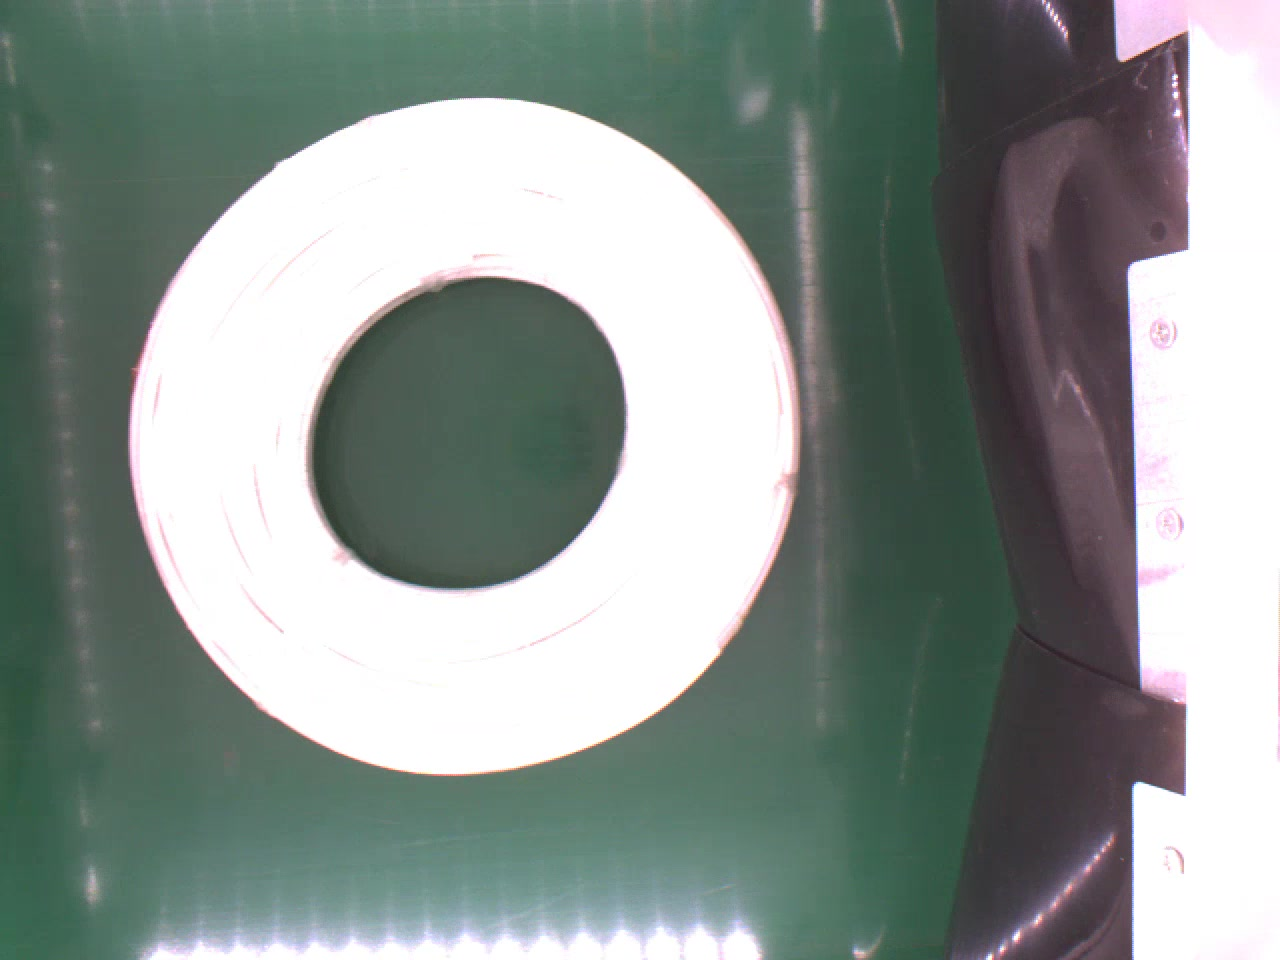white: (123, 87, 807, 781)
